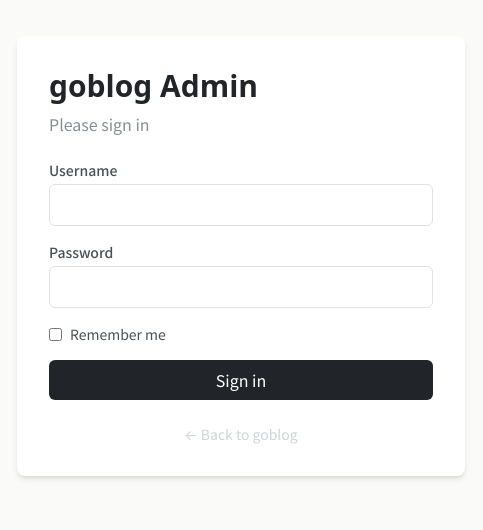
Login › Login error › should show error message when login fails with Error
Type "wronguser" into the field labelled "Username" at (241, 205), box 49,184 -> 433,226
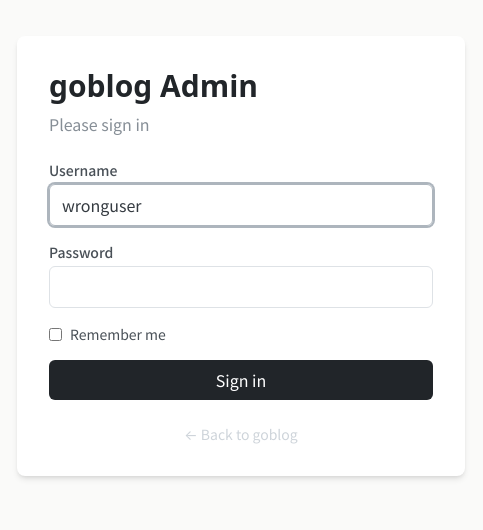
Type "wrongpass" into the password field labelled "Password" at (241, 287), box 49,266 -> 433,308
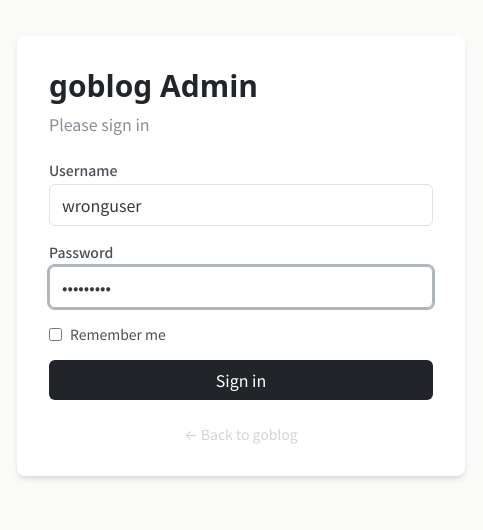
Click the button "Sign in" at (241, 380), box 49,360 -> 433,400
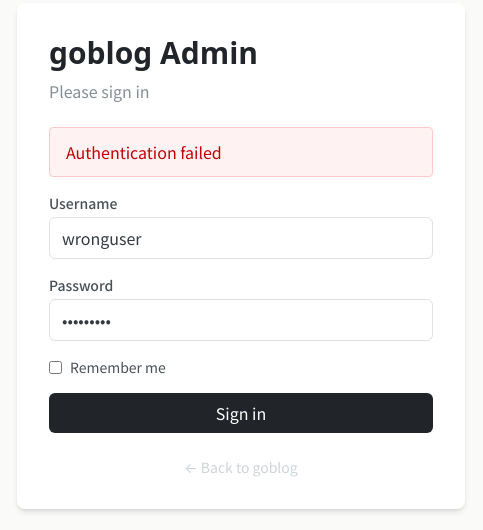
Expected: the text "Authentication failed" is shown, 49,127 -> 433,177
